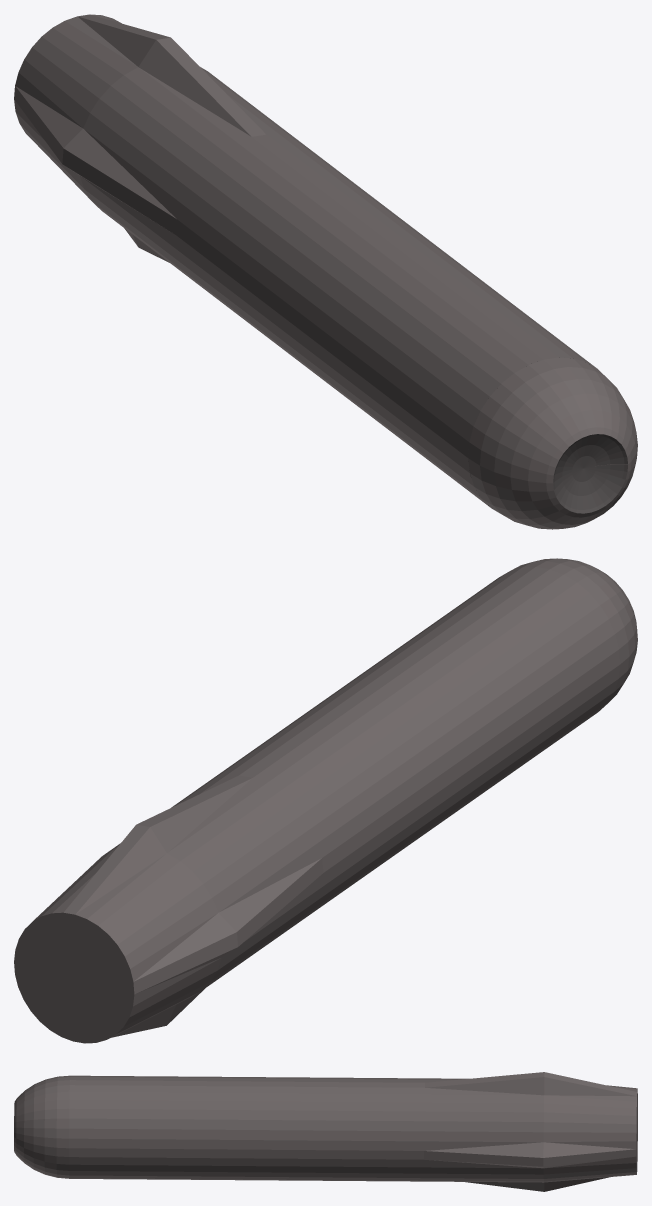
Rendered from missile.obj.
The picture shows the model from 3 angles, top to bottom: view 1: azimuth 30°, elevation 25°; view 2: azimuth 150°, elevation 25°; view 3: azimuth 270°, elevation 25°; orthographic projection. The views are drawn at different scales.
Parts seen in each view (by area): view 1: Cylinder.002; view 2: Cylinder.002; view 3: Cylinder.002.
Part boxes in pixels (bbox=[...]): Cylinder.002: bbox=[14, 14, 637, 529]; Cylinder.002: bbox=[14, 558, 637, 1043]; Cylinder.002: bbox=[14, 1072, 637, 1191].
Bounding box in the file's own units: 1.4 × 1.49 × 6.98.
1 material, 1 textured.
